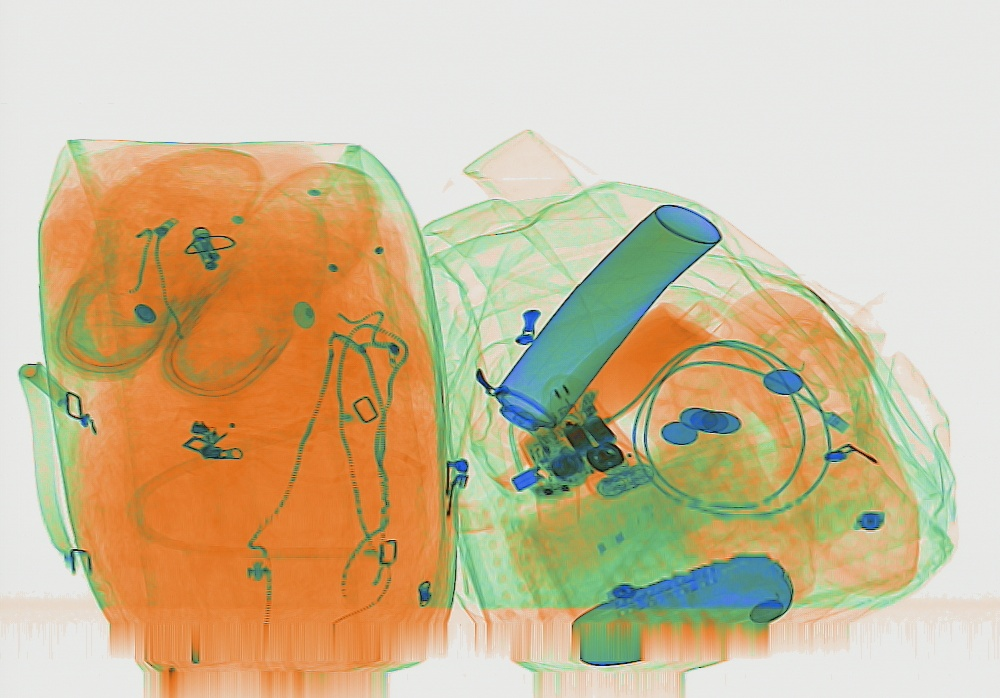pressure: (475, 199, 731, 462)
